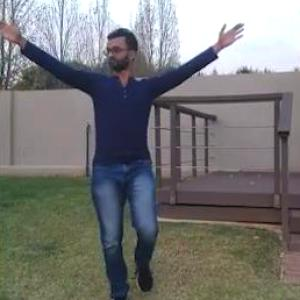takeoff: (0, 20, 256, 299)
